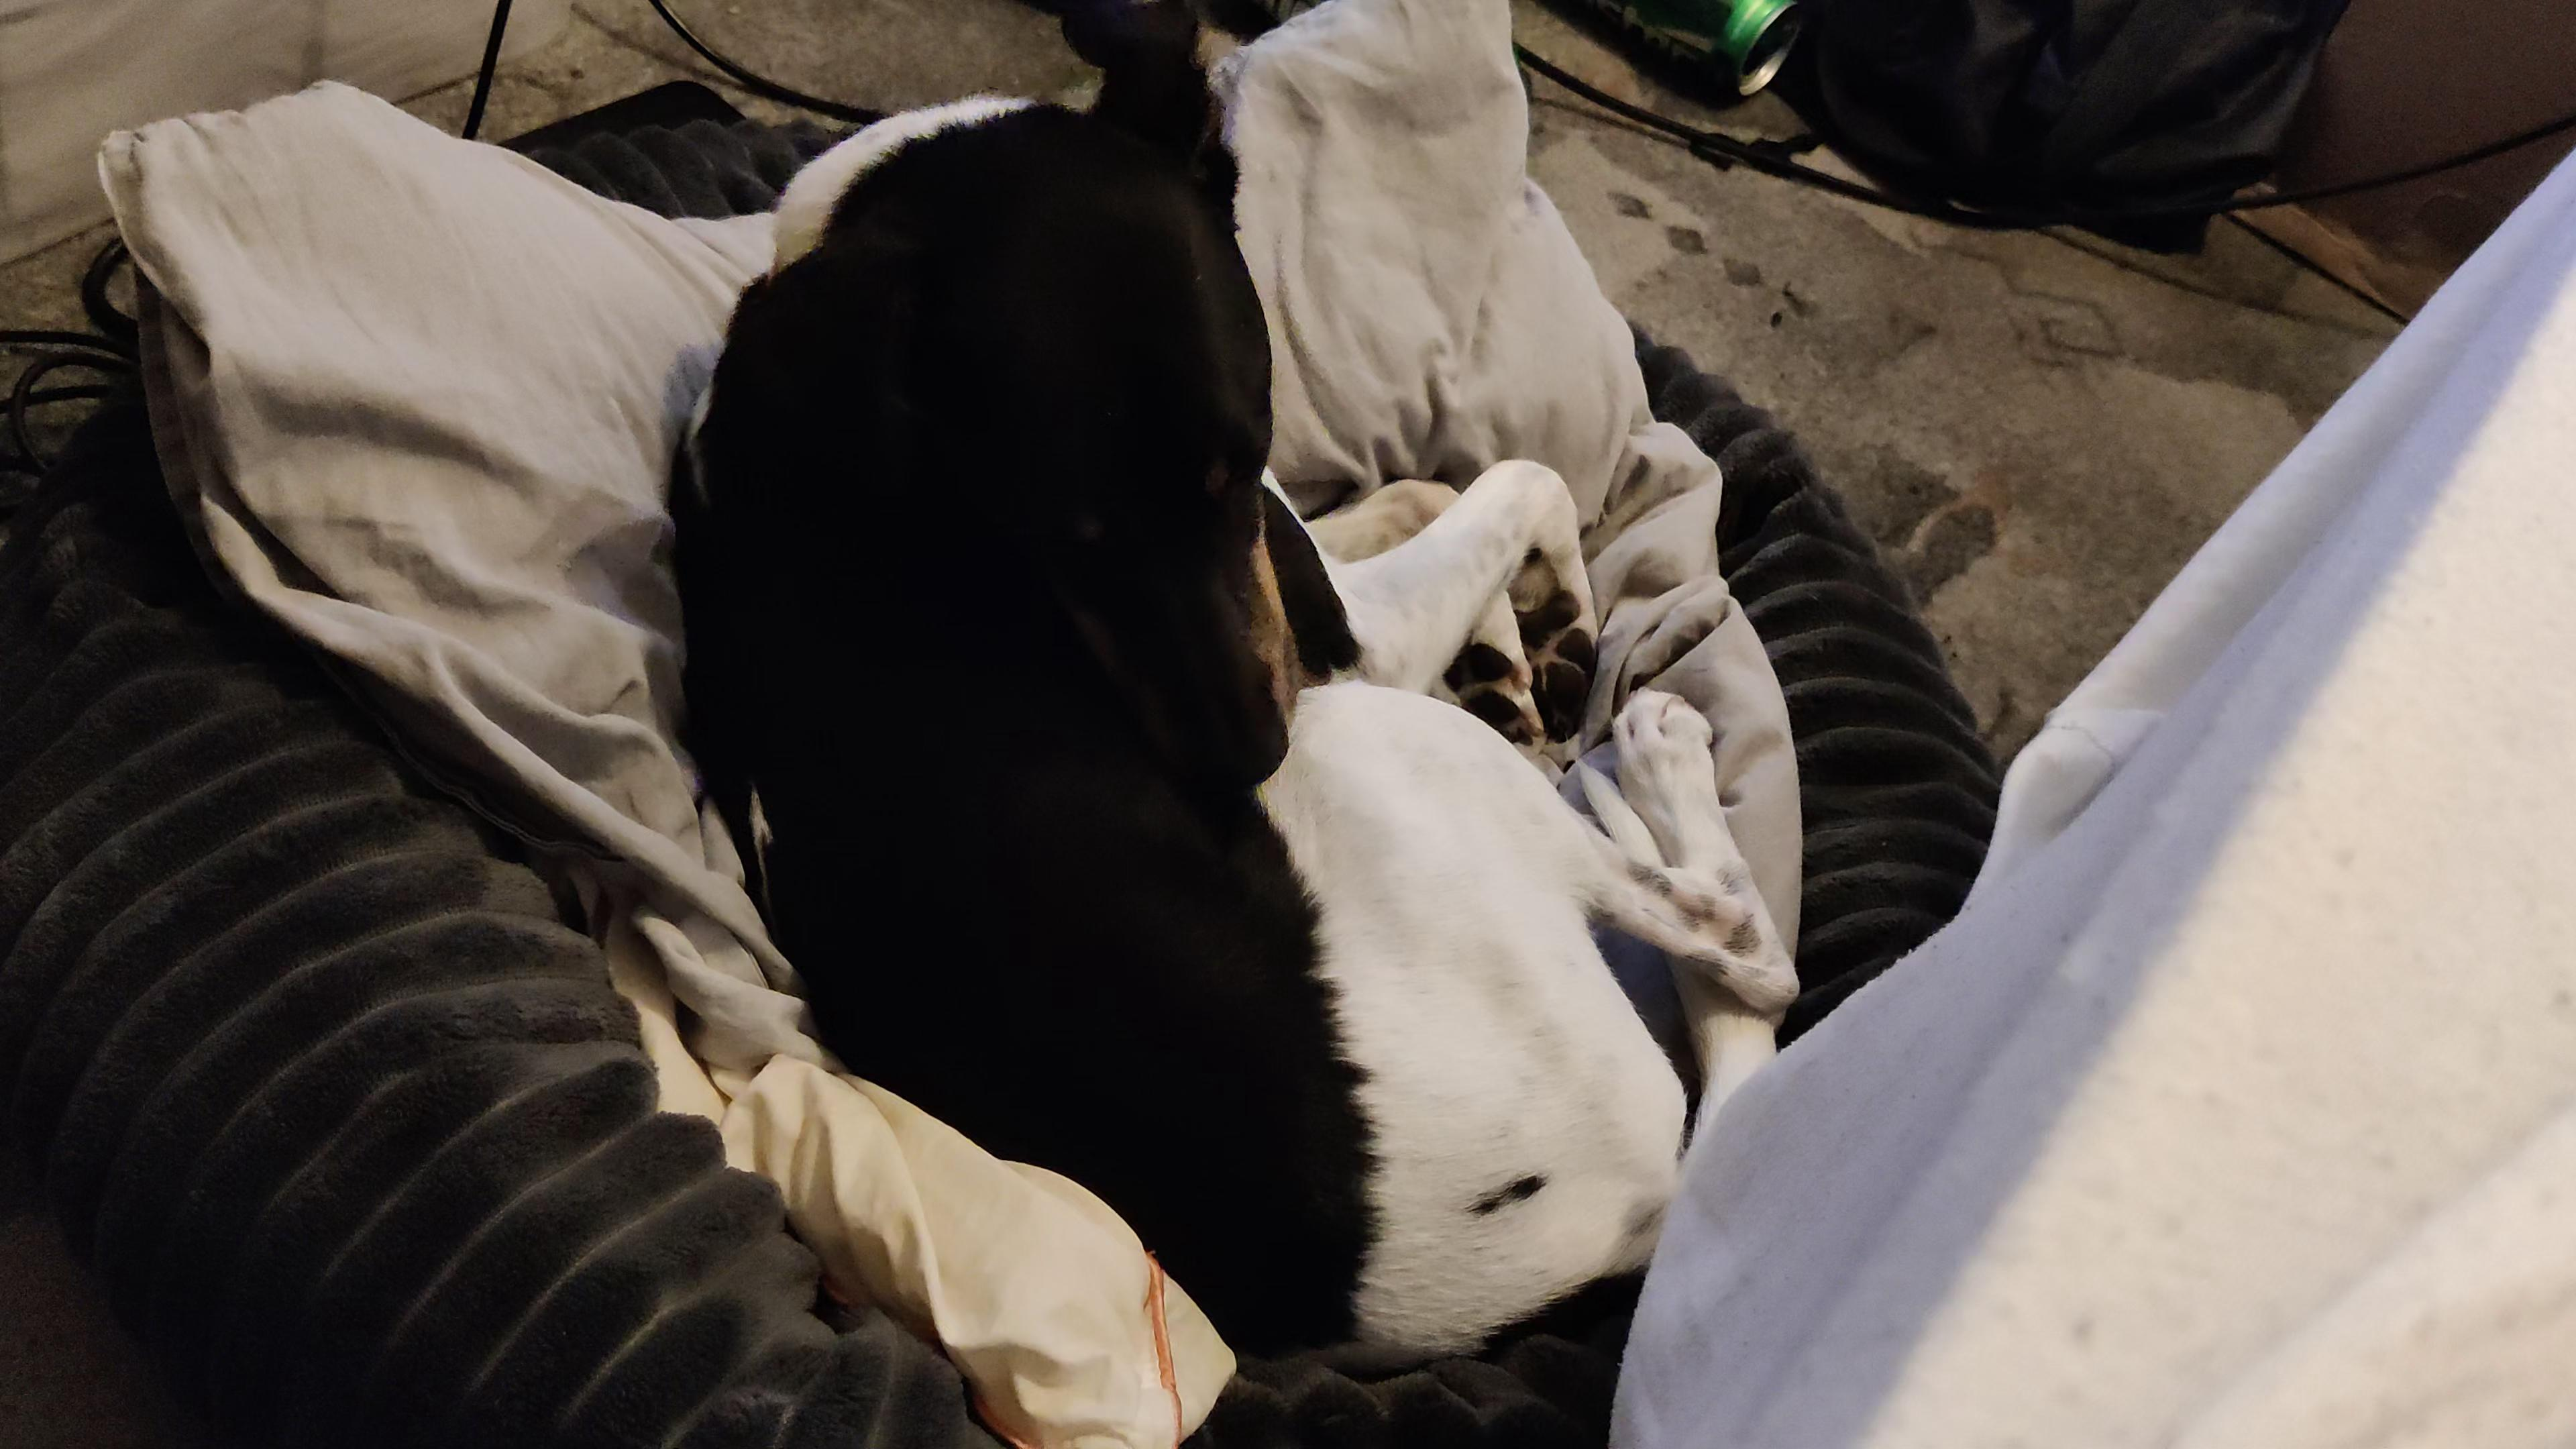Dog: (639, 0, 1856, 1382)
